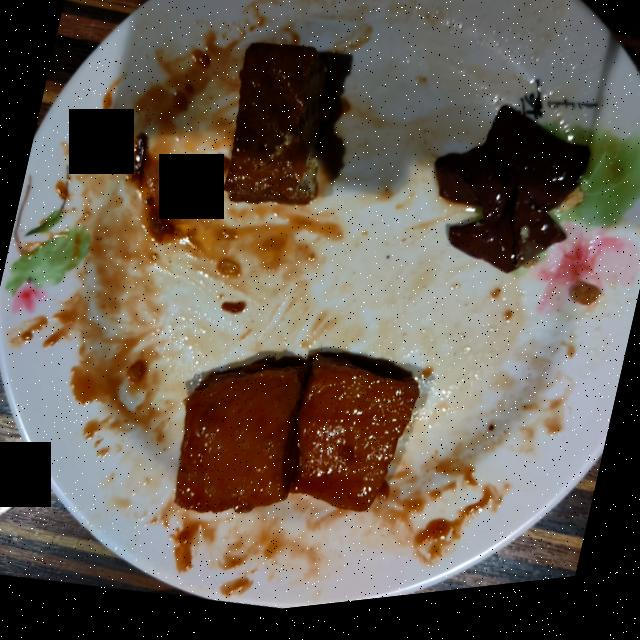coin: (0, 451, 24, 513)
creamy tofu: (174, 361, 418, 519)
egg tofu: (223, 48, 330, 211)
pig blood curd: (434, 116, 589, 283)
